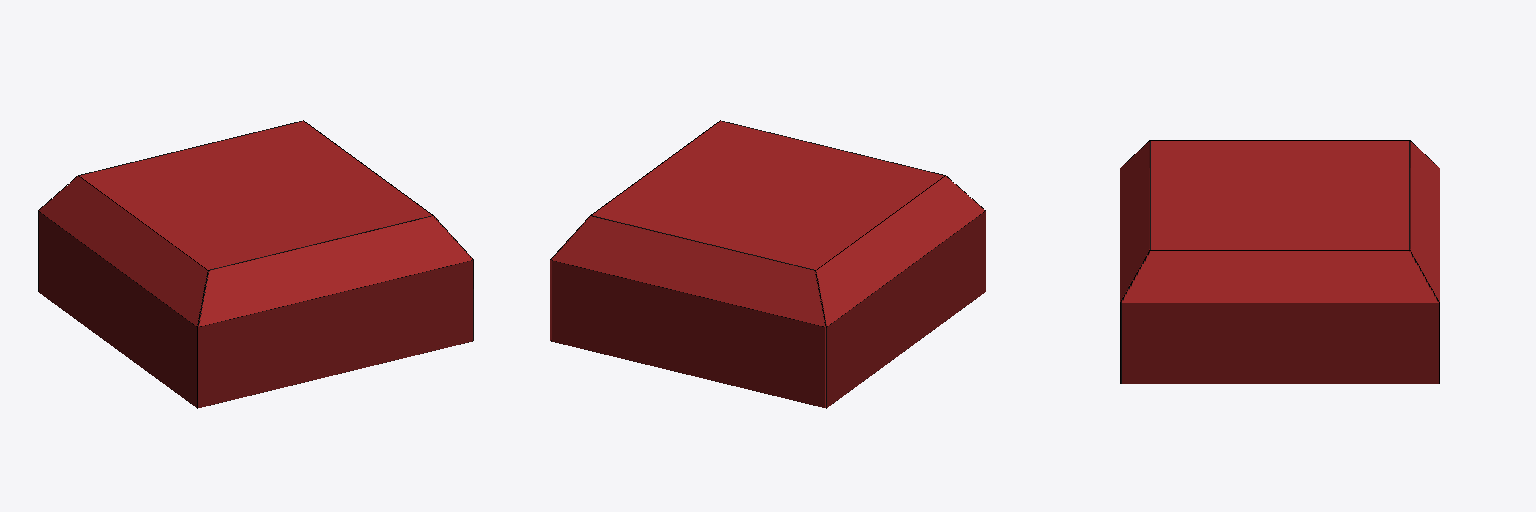
3 renders of one model, left to right at view 1: azimuth 30°, elevation 25°; view 2: azimuth 150°, elevation 25°; view 3: azimuth 270°, elevation 25°, orthographic.
Visible parts, largest first — view 1: Cube; view 2: Cube; view 3: Cube.
Boxes of the visible parts, x1=… form: Cube: x1=38, y1=120, x2=473, y2=408; Cube: x1=550, y1=120, x2=985, y2=408; Cube: x1=1120, y1=140, x2=1439, y2=383.
Bounding box in the file's own units: 2 × 0.8355 × 2.
1 materials, 1 textured.